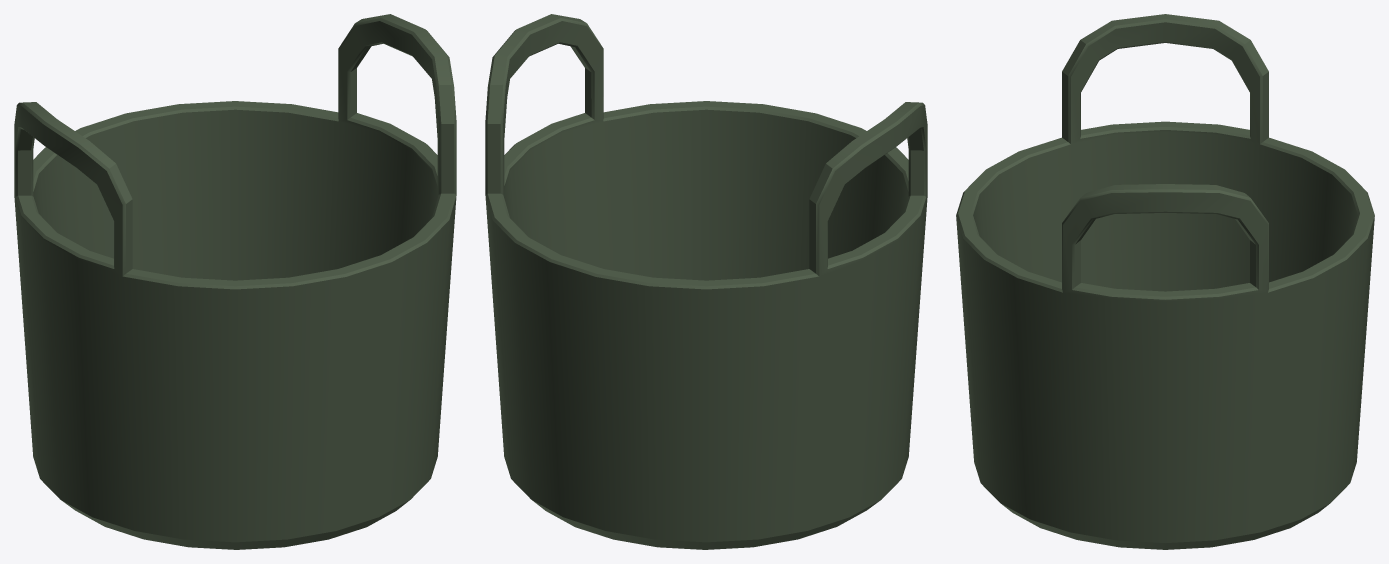
The model's file is kago_B.fbx.
3 renders of one model, left to right at view 1: azimuth 30°, elevation 25°; view 2: azimuth 150°, elevation 25°; view 3: azimuth 270°, elevation 25°, orthographic. The views are drawn at different scales.
Visible parts, largest first — view 1: pCylinder4; view 2: pCylinder4; view 3: pCylinder4.
Part boxes in pixels (x1,y1,x2,y2): pCylinder4: (14,14,456,549); pCylinder4: (485,14,927,549); pCylinder4: (956,14,1374,549).
Size of the model in its own units: 3.26 by 3.21 by 3.25.
Materials: 1 (1 with a texture image).
